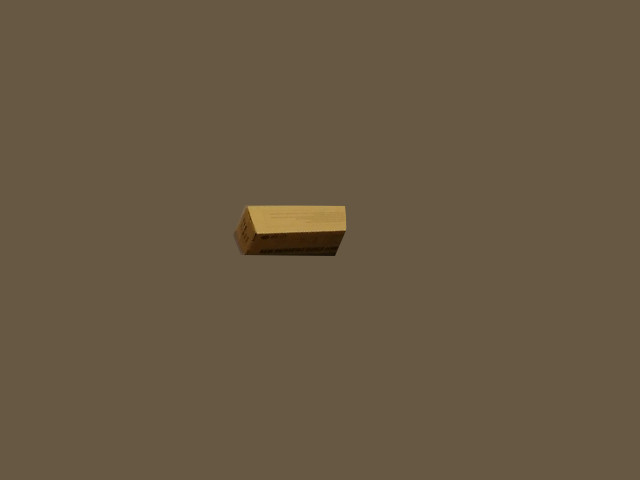cardboard: (239, 205, 345, 252)
